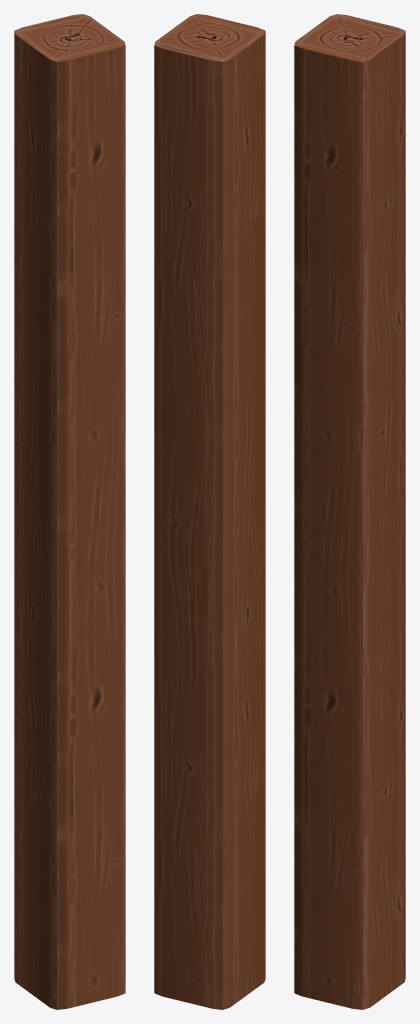
Rendered from SM_Wood_Beam_03.fbx.
3 renders of one model, left to right at view 1: azimuth 30°, elevation 25°; view 2: azimuth 150°, elevation 25°; view 3: azimuth 330°, elevation 25°, orthographic.
Visible parts, largest first — view 1: SM_Wood_Beam_03_LOD0; view 2: SM_Wood_Beam_03_LOD0; view 3: SM_Wood_Beam_03_LOD0.
Part boxes in pixels (x1,y1,x2,y2): SM_Wood_Beam_03_LOD0: (14,14,125,1009); SM_Wood_Beam_03_LOD0: (154,14,265,1009); SM_Wood_Beam_03_LOD0: (294,14,405,1009).
Bounding box in the file's own units: 56.87 × 60.09 × 692.
1 material, 1 textured.
